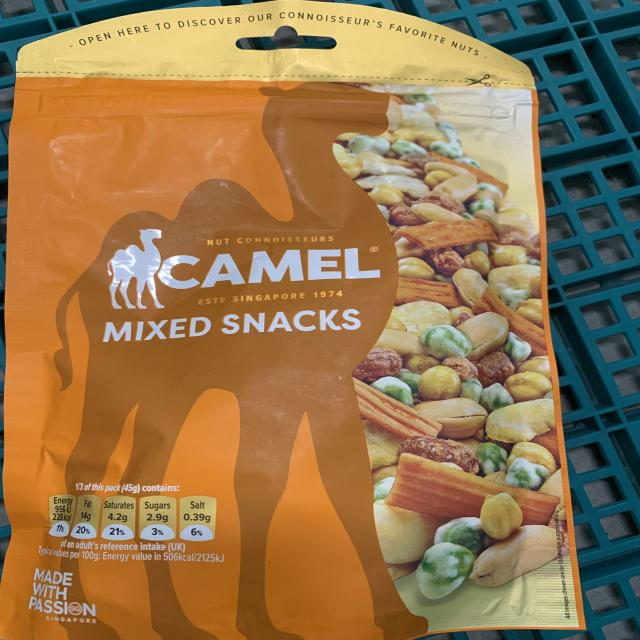object_name: (17, 19, 576, 640)
